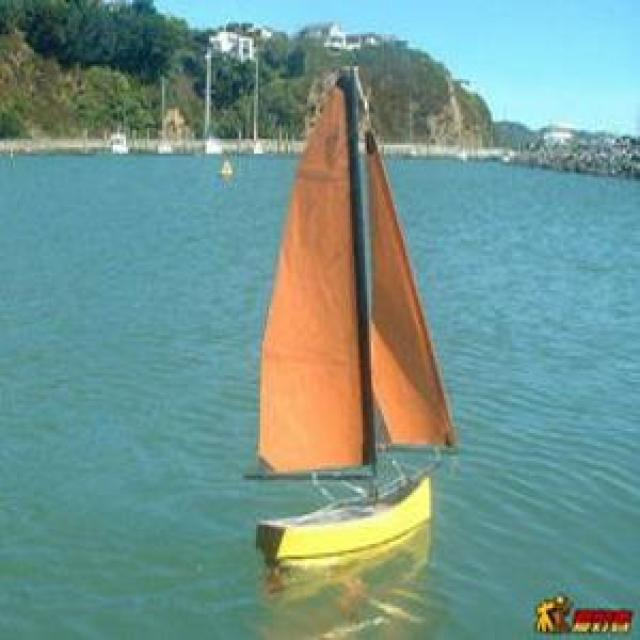sailboat: (254, 61, 462, 576)
